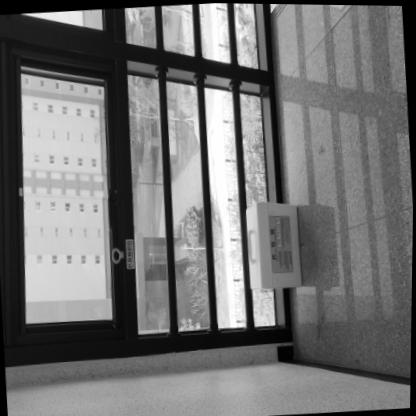DDL: (245, 195, 305, 293)
